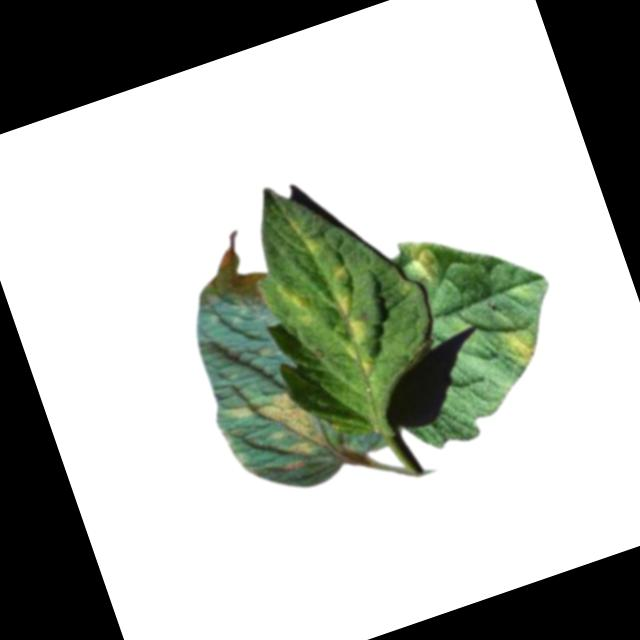Leaf_Mold: (291, 207, 383, 383), (220, 376, 333, 487), (493, 312, 546, 371), (271, 272, 319, 330), (398, 233, 446, 287)
